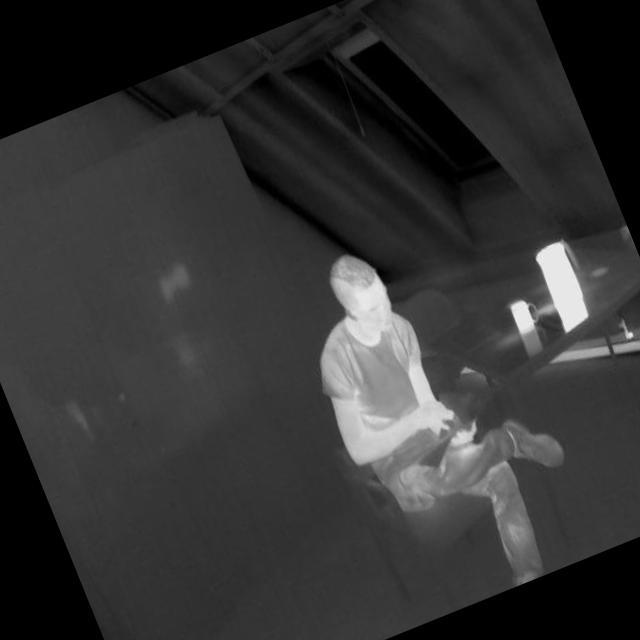person: (275, 207, 607, 627)
